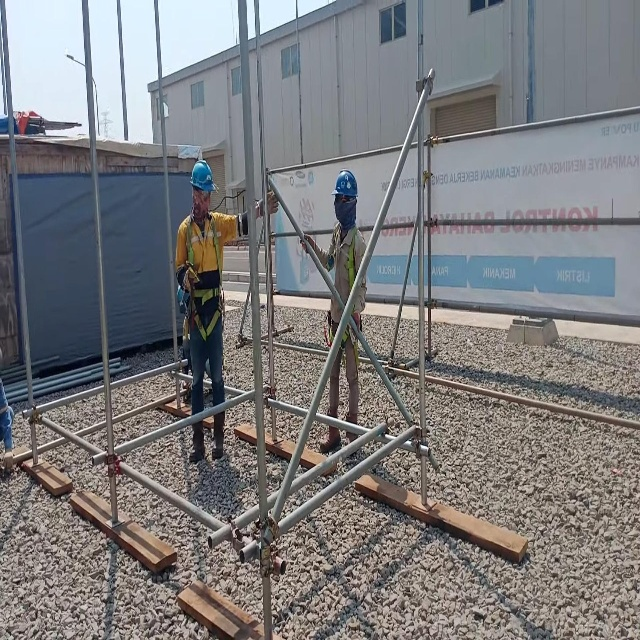Arnes_seguridad: (321, 229, 363, 357), (185, 209, 226, 339)
